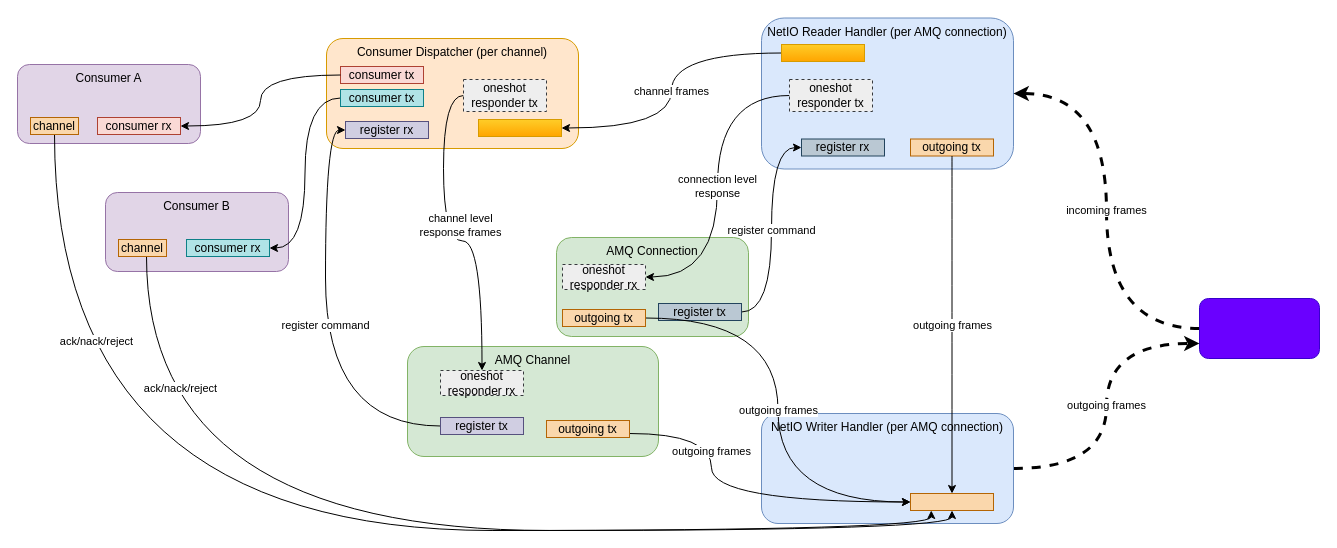
Some shapes in this 1337 by 548 pixel diagram are drawn without their labels. The shapes that lost their labels are listed below. From the top down, each one's centre as x and y in pixels, then its label:
At (822,53): "dispatcher tx".
At (520,127): "dispatcher rx".
At (1259,328): "RabbitMQ Server".
At (952,501): "outgoing rx".
